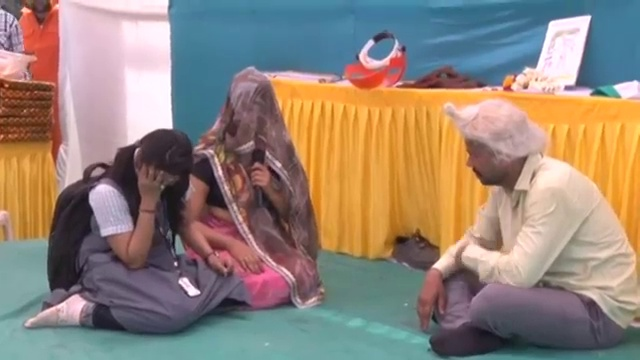helmet: (0, 51, 39, 83)
helmet_off: (450, 103, 538, 192), (219, 69, 282, 147), (122, 129, 190, 199), (30, 0, 56, 21)
person: (413, 85, 640, 350), (15, 130, 240, 338), (177, 70, 319, 308), (9, 0, 67, 81), (0, 8, 21, 53)
